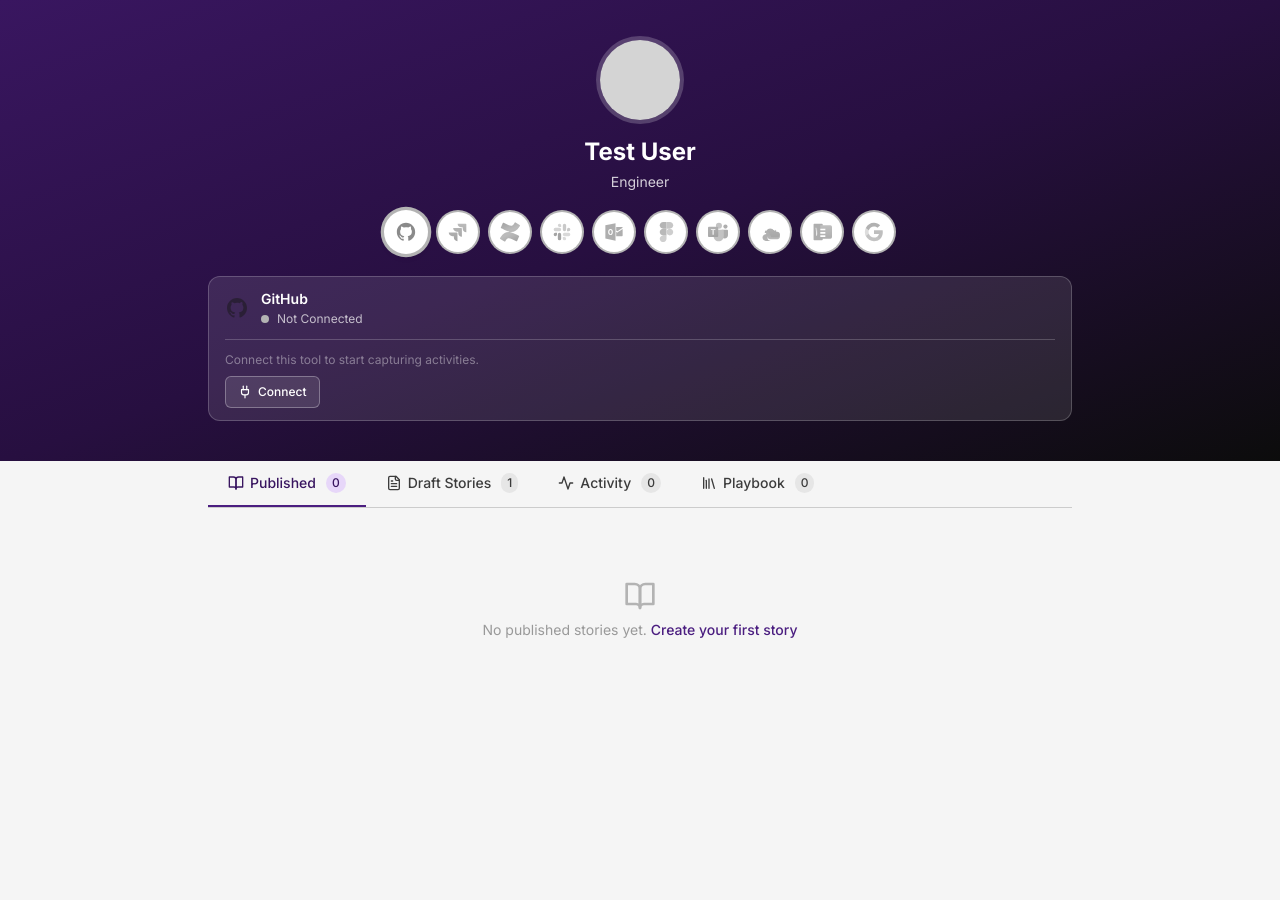
Test: ProfileViewPage — Tabs › shows draft story in Draft Stories tab
The width and height of the screenshot is (1280, 900).
Step 1. Click the button "Draft Stories 1" → [452, 484], box top-left (366, 461), bottom-right (538, 507)
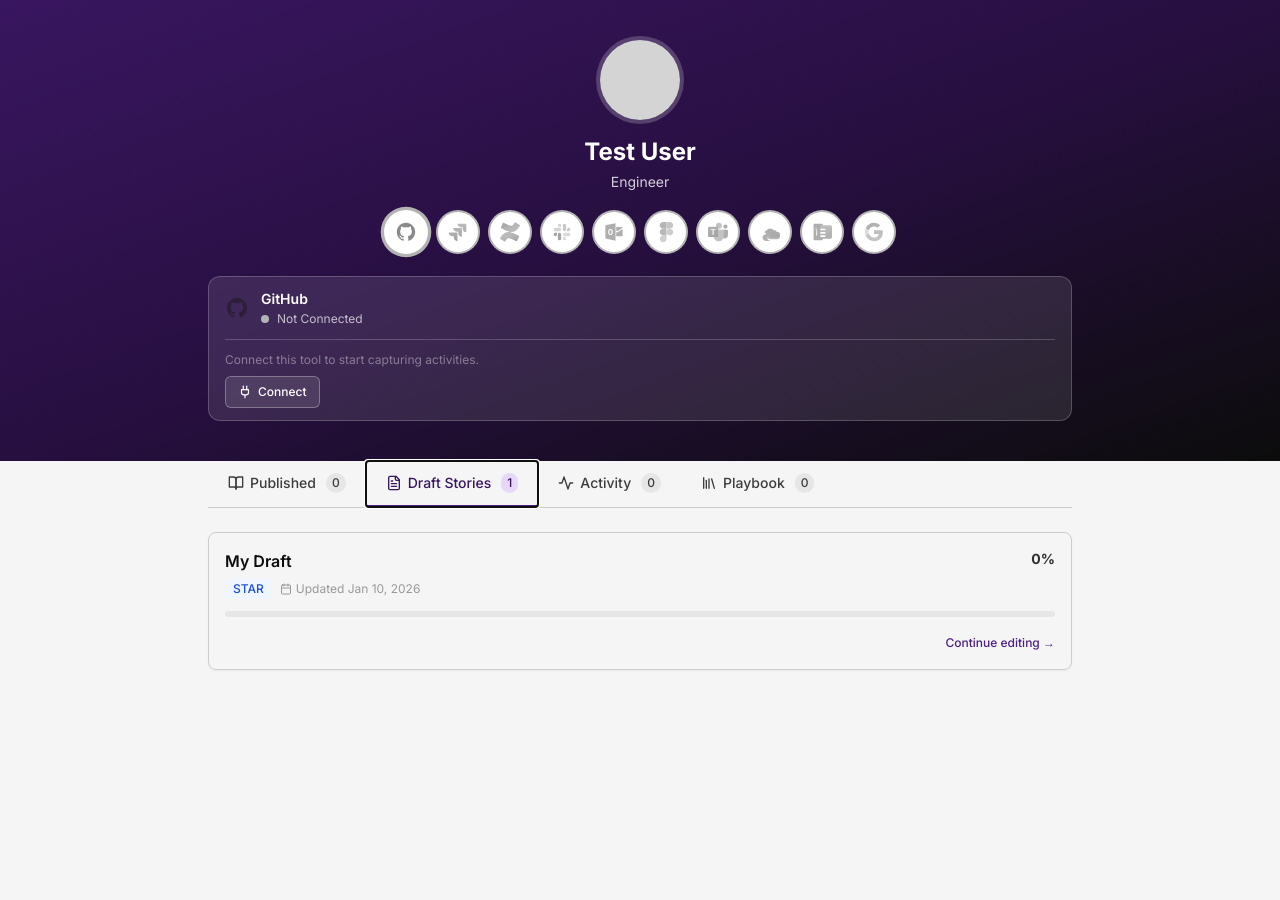
Check: the text "My Draft" is shown, box top-left (225, 551), bottom-right (292, 571)
